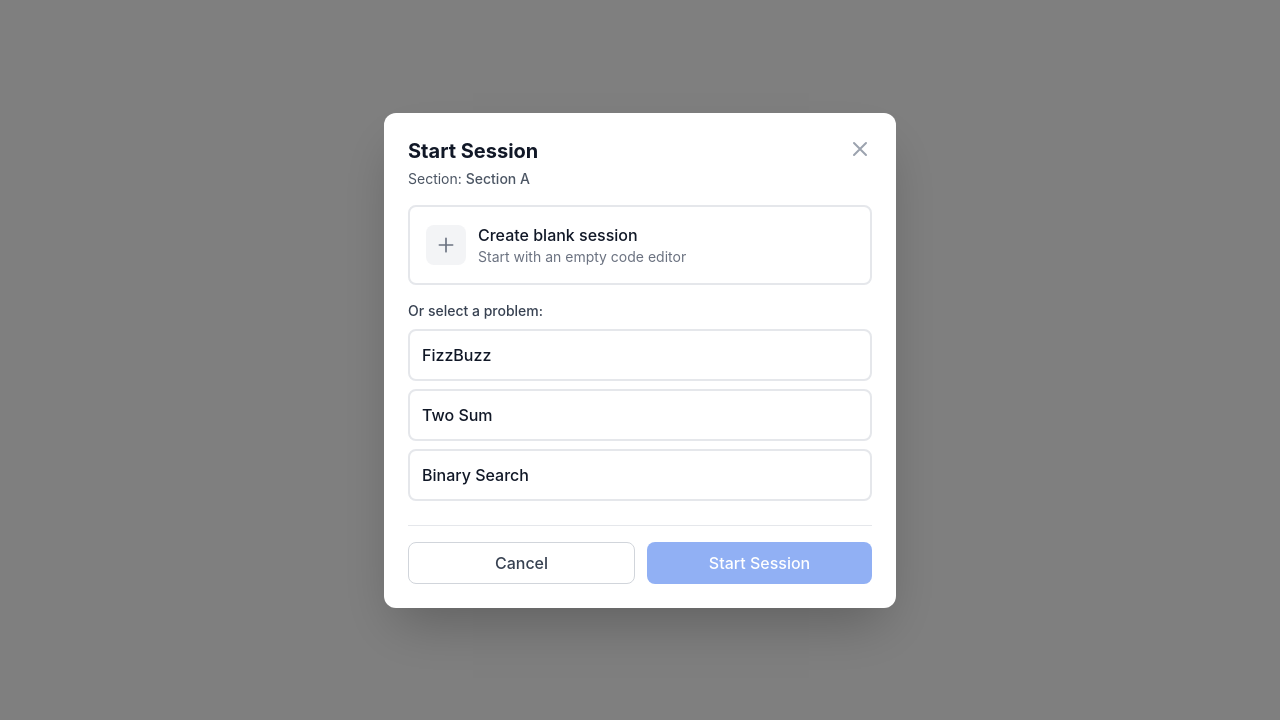
Scenario: StartSessionModal › Publish UX › shows "Already published" when selected problem is published to section
Check: the text "FizzBuzz" is shown, box [422,344,491,364]
Click the button "FizzBuzz". click: (457, 354)
box: [408,328,872,380]
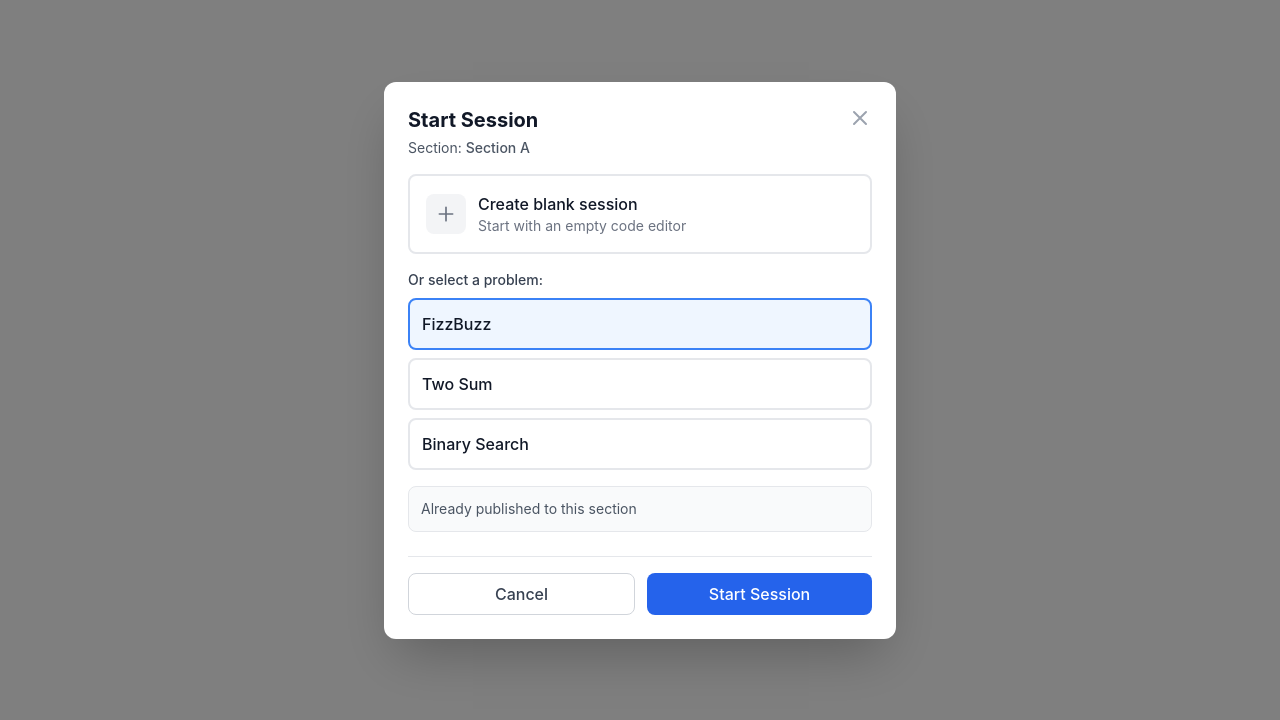
Check: the text "Already published to this section" is shown, box [408,486,872,532]
